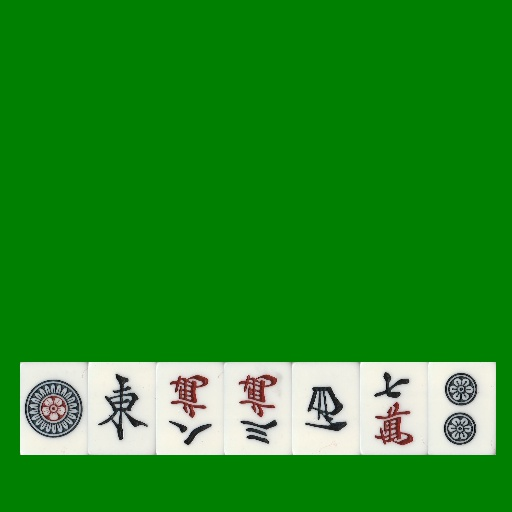1p: (20, 362, 88, 455)
2p: (428, 362, 496, 455)
3m: (224, 362, 292, 455)
7m: (360, 362, 428, 455)
8m: (156, 362, 224, 455)
east: (88, 362, 156, 455)
west: (292, 362, 360, 455)
